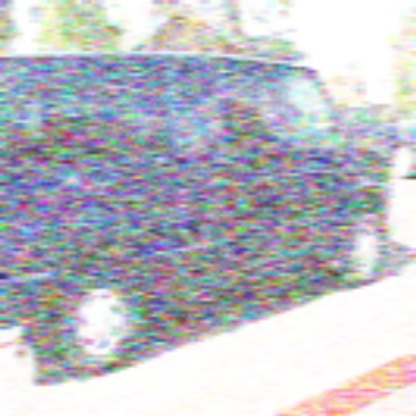Vehicle: (1, 51, 402, 383)
